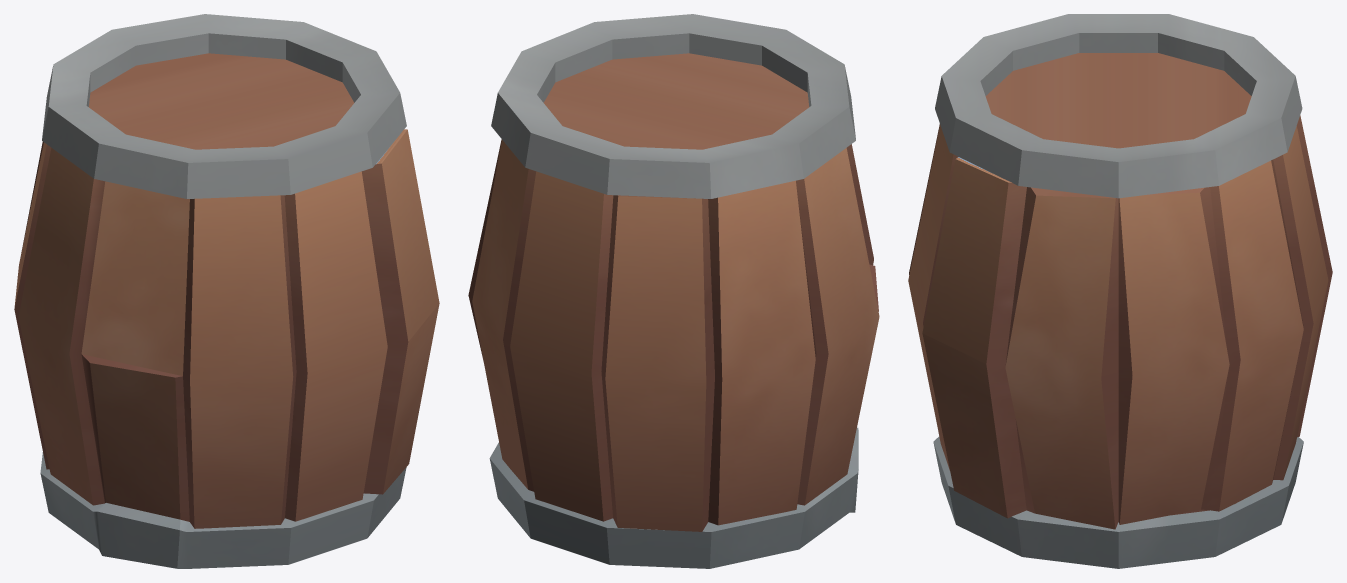
The model's file is Barrel.fbx.
The picture shows the model from 3 angles, left to right: view 1: azimuth 30°, elevation 25°; view 2: azimuth 150°, elevation 25°; view 3: azimuth 270°, elevation 25°; orthographic projection.
Parts seen in each view (by area): view 1: pCylinder9; view 2: pCylinder9; view 3: pCylinder9.
Part boxes in pixels (x1,y1,x2,y2): pCylinder9: [14, 14, 439, 568]; pCylinder9: [468, 14, 879, 568]; pCylinder9: [908, 14, 1332, 568].
Size of the model in its own units: 208 by 226 by 212.
